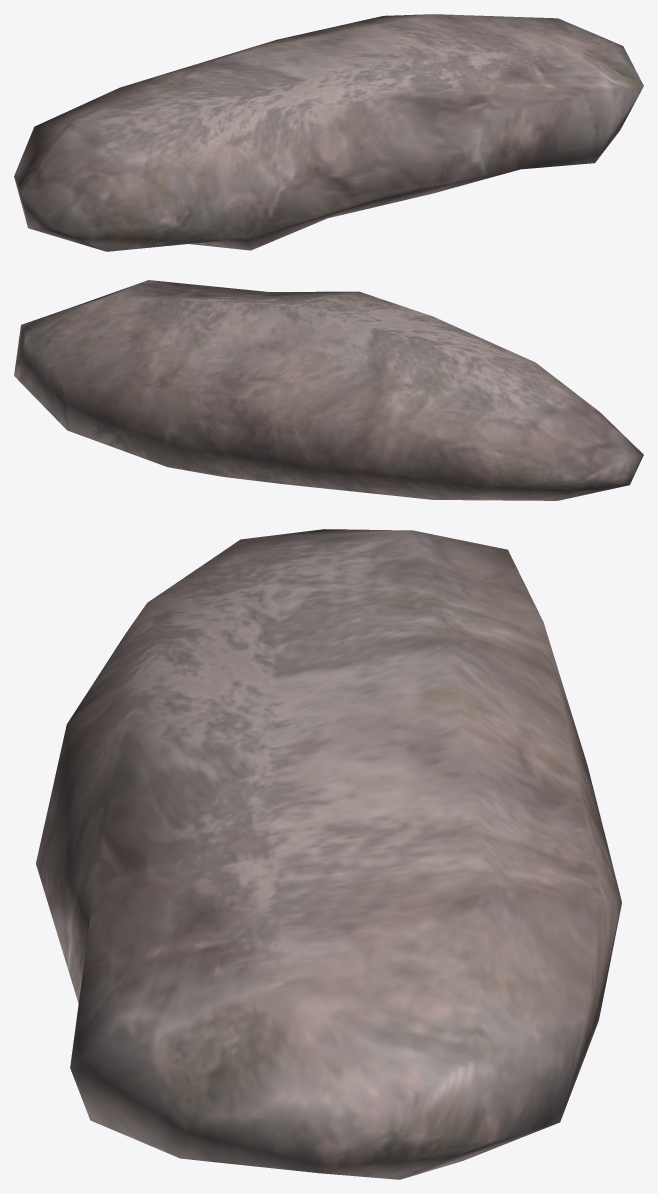
The model's file is land_rock_05.fbx.
3 views of the same model, one above another, from view 1: azimuth 30°, elevation 25°; view 2: azimuth 150°, elevation 25°; view 3: azimuth 270°, elevation 25° (orthographic). The views are drawn at different scales.
Visible parts, largest first — view 1: land_rock_05; view 2: land_rock_05; view 3: land_rock_05.
Part boxes in pixels (x1,y1,x2,y2): land_rock_05: [14, 14, 643, 251]; land_rock_05: [14, 280, 643, 500]; land_rock_05: [36, 529, 621, 1179].
Size of the model in its own units: 29.33 by 6.06 by 12.46.
